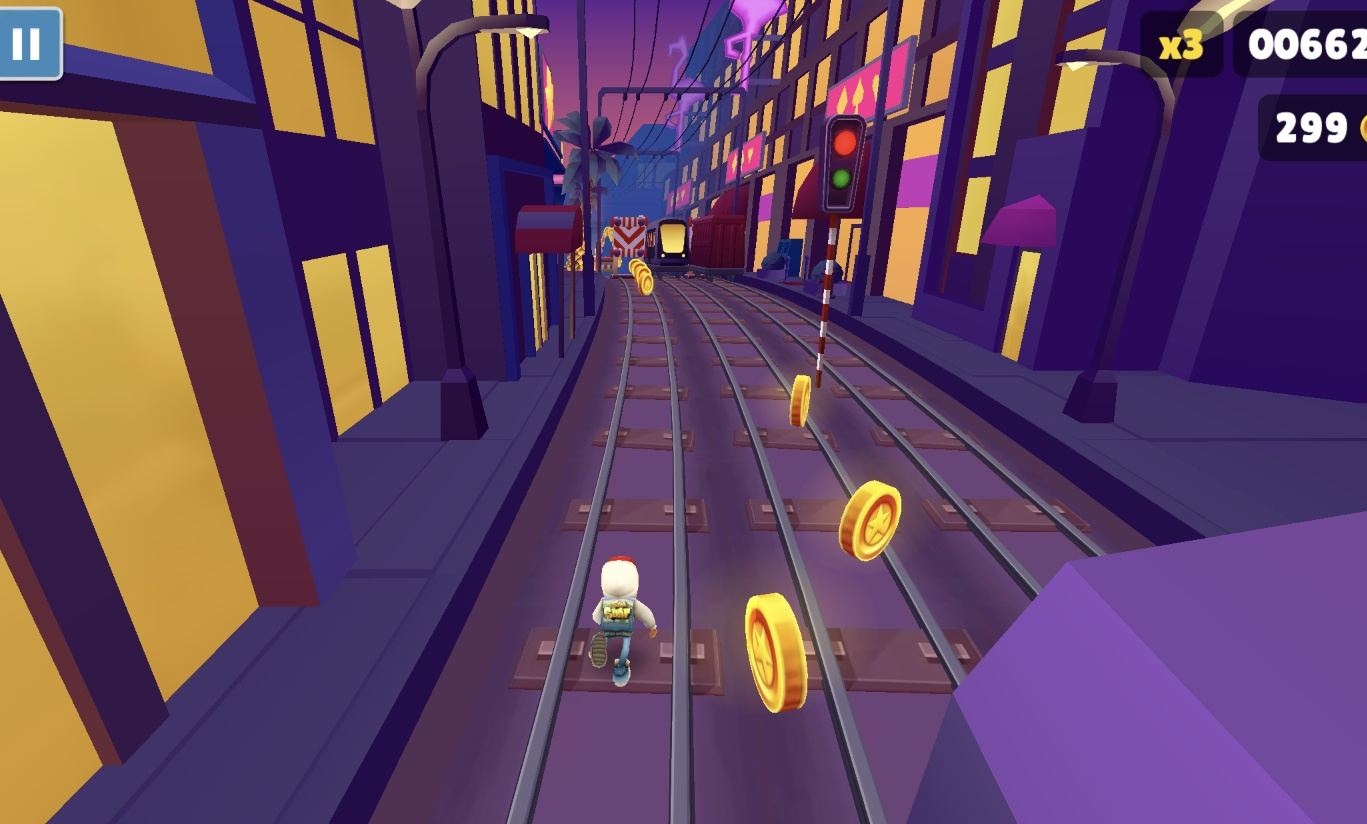overhead_barrier: (609, 215, 648, 280)
train: (918, 512, 1367, 824), (688, 215, 748, 279), (648, 216, 695, 274)
